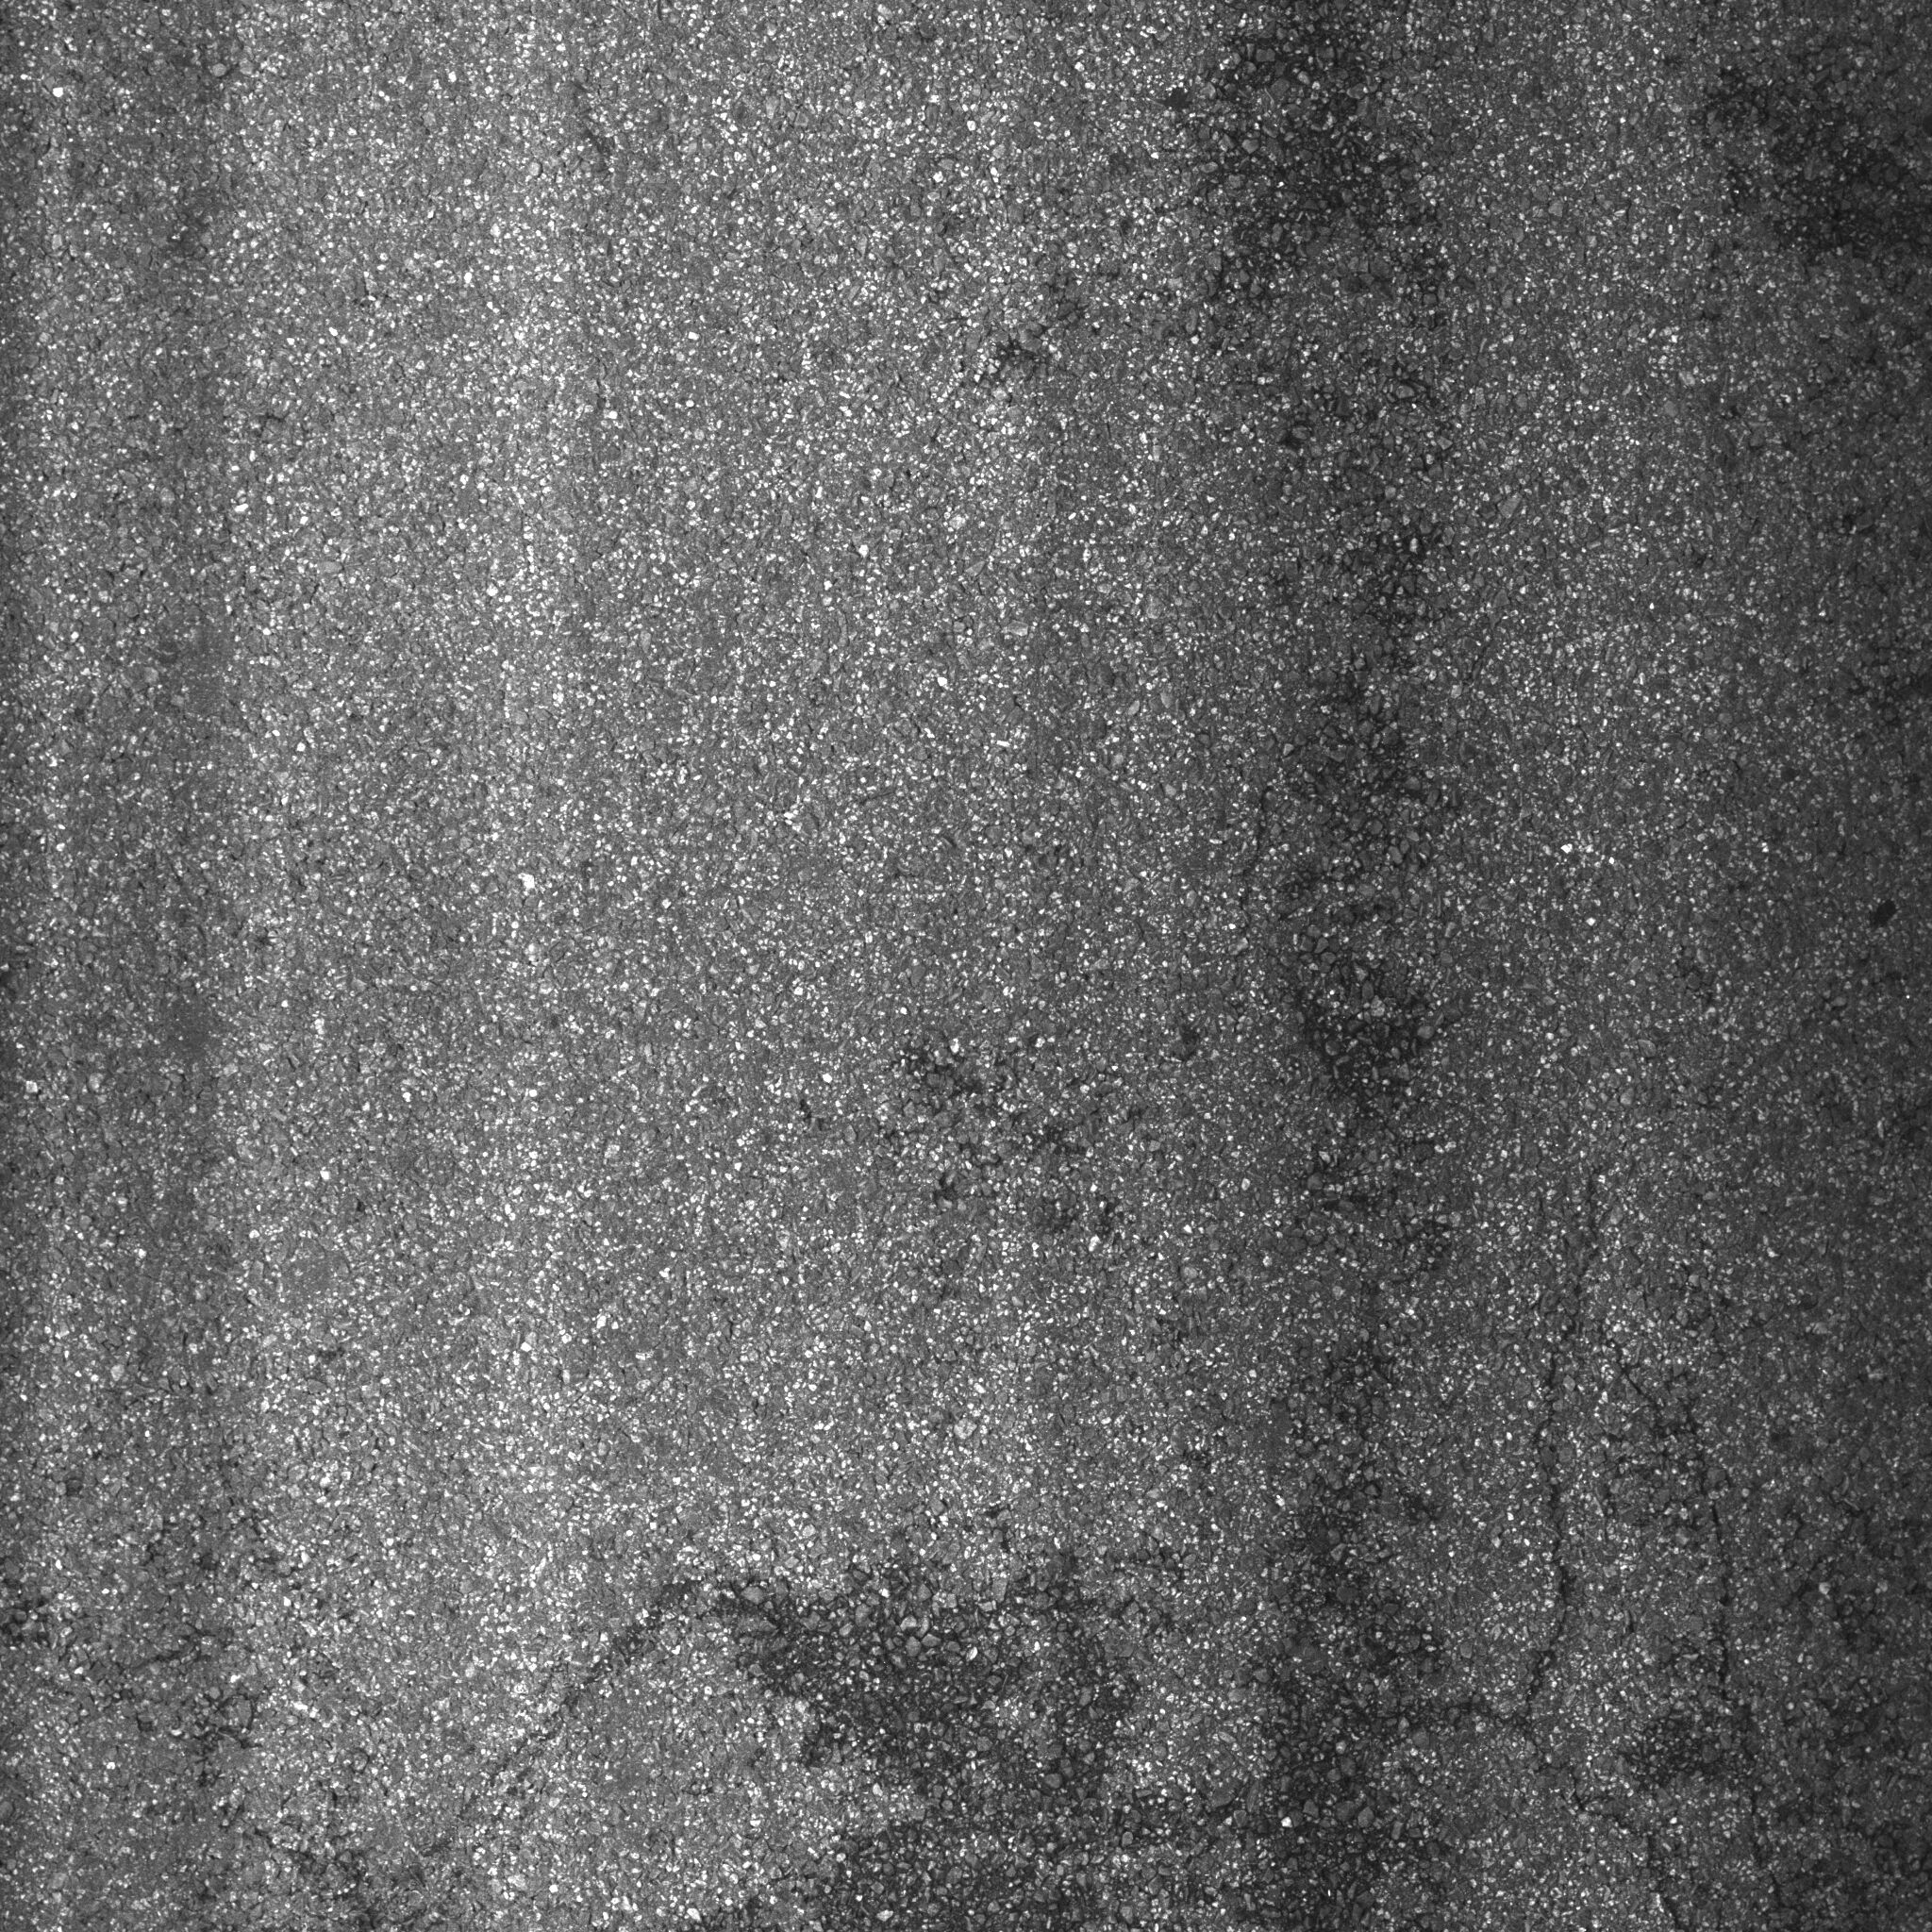longitudinal: (1495, 1106, 1792, 1916)
